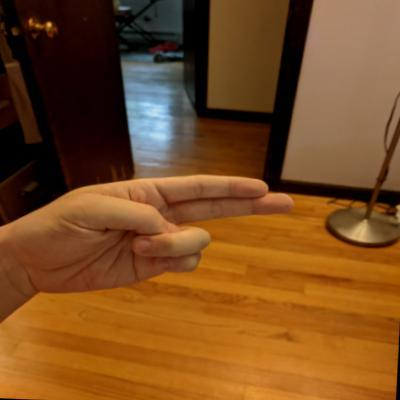hand: (18, 164, 304, 307)
